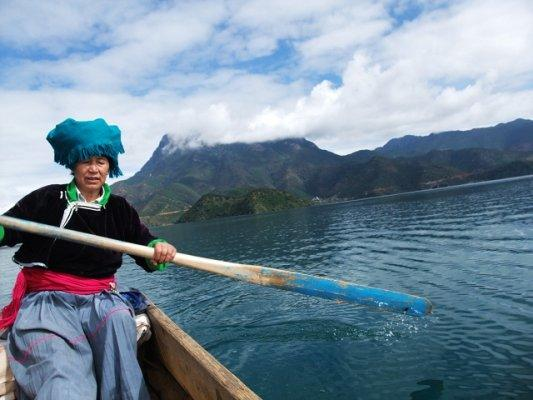person: (2, 118, 176, 400)
